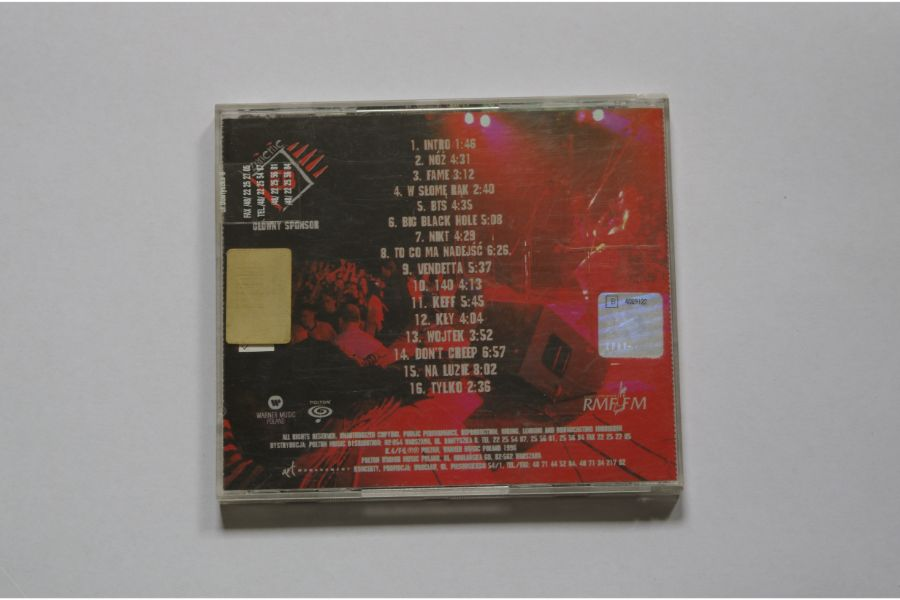album: (211, 102, 681, 493)
